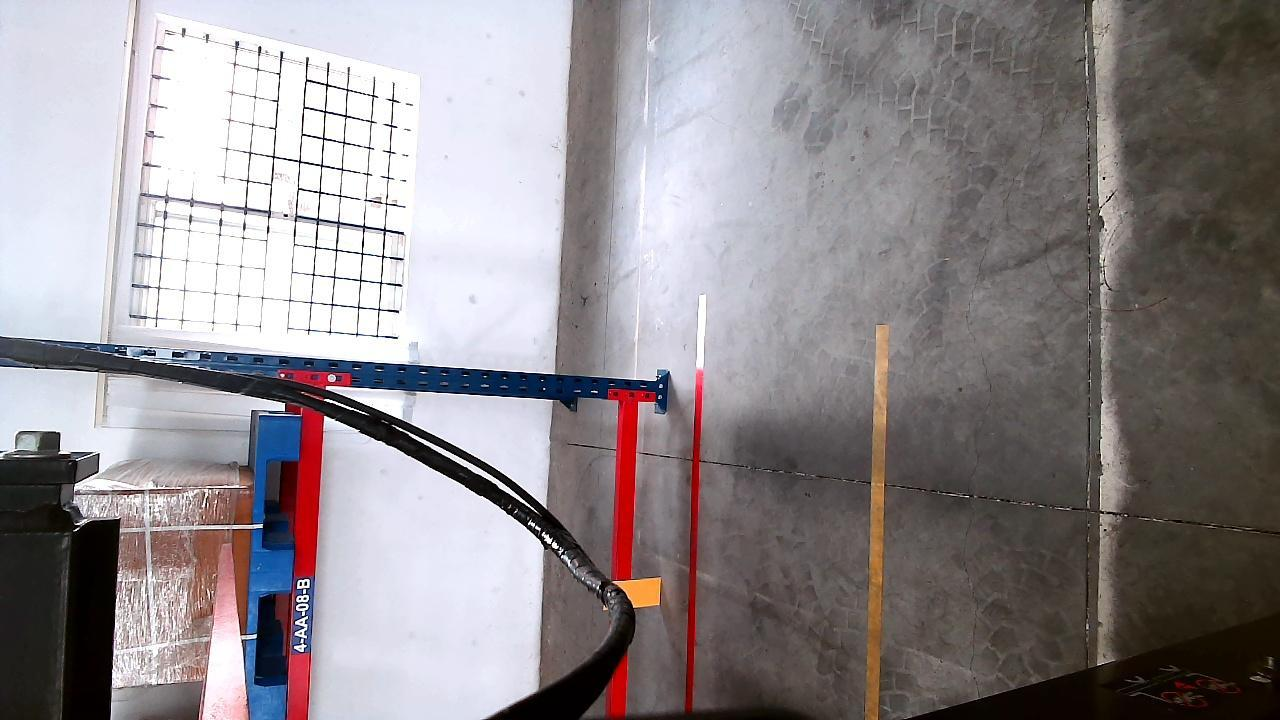red_line: (687, 296, 706, 716)
yellow_line: (863, 324, 891, 720)
